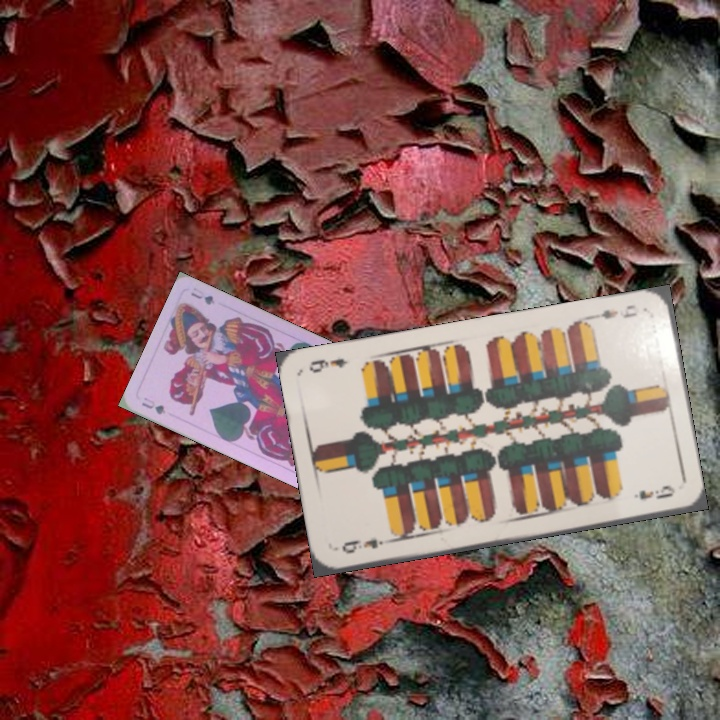E9: (338, 535, 393, 556), (589, 300, 640, 322)
GU: (138, 393, 168, 417)
